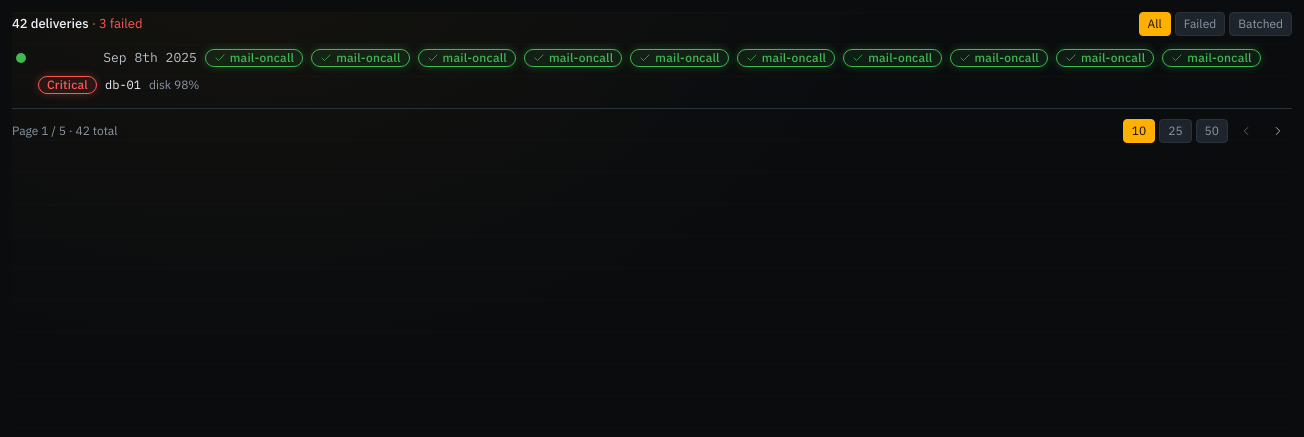
Test case: DeliveryTimeline › keeps the size chips reachable after a chip narrows the list below one page
The width and height of the screenshot is (1304, 437).
Expected: the text "Page 1 / 5 · 42 total" is shown, 12,122 -> 118,140
What coordinates should you click on to do the following:
click the button named "50 per page"
I would click on:
 (1212, 131)
Its box is 1196,119 -> 1228,143.
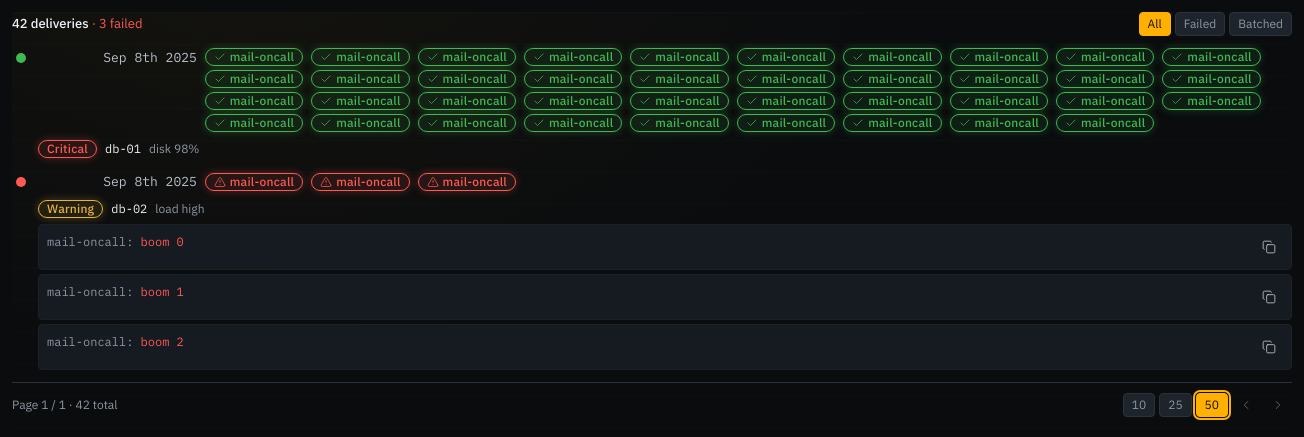
Expected: the text "Page 1 / 1 · 42 total" is shown, 12,396 -> 118,414
What coordinates should you click on to do the following:
click the button "Failed"
I would click on:
 (1200, 24)
Its box is 1175,12 -> 1225,36.
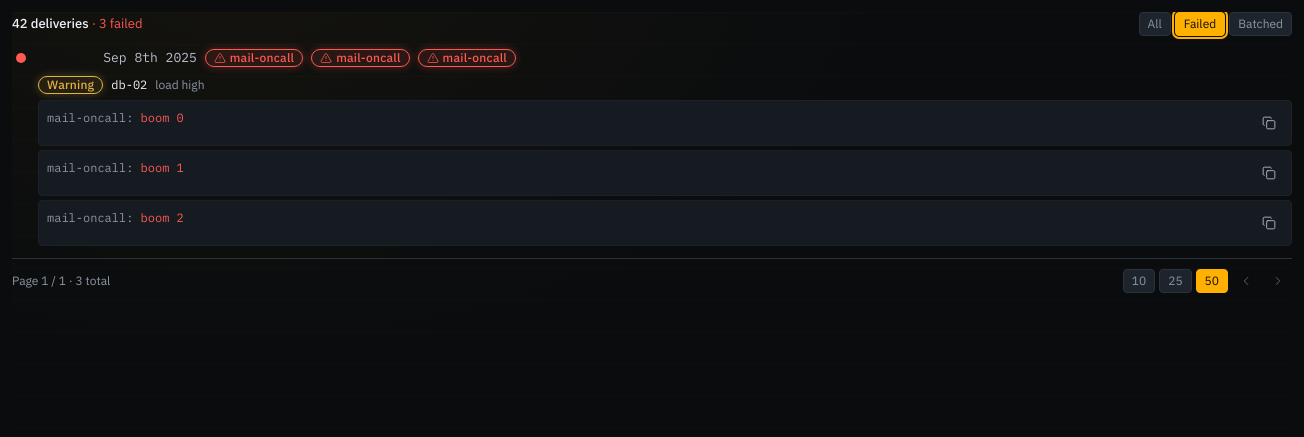
Expected: the button named "10 per page" is shown, 1123,269 -> 1155,293
Expected: the text "Page 1 / 1 · 3 total" is shown, 12,272 -> 110,290
